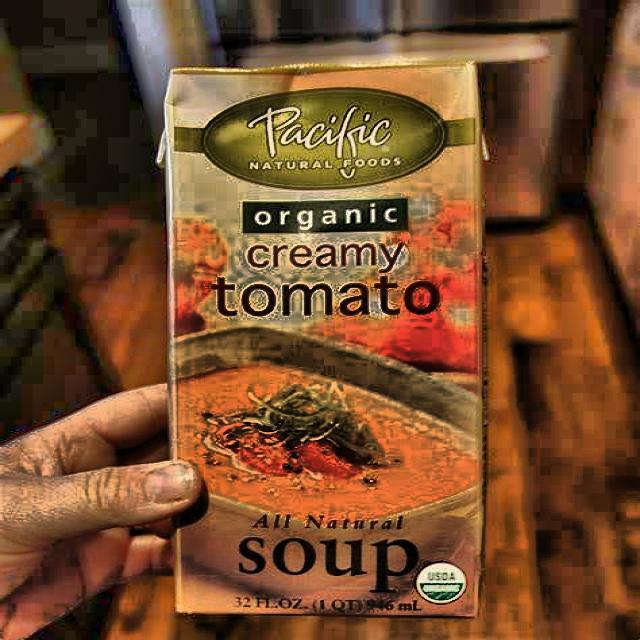cardboard: (158, 57, 488, 617)
